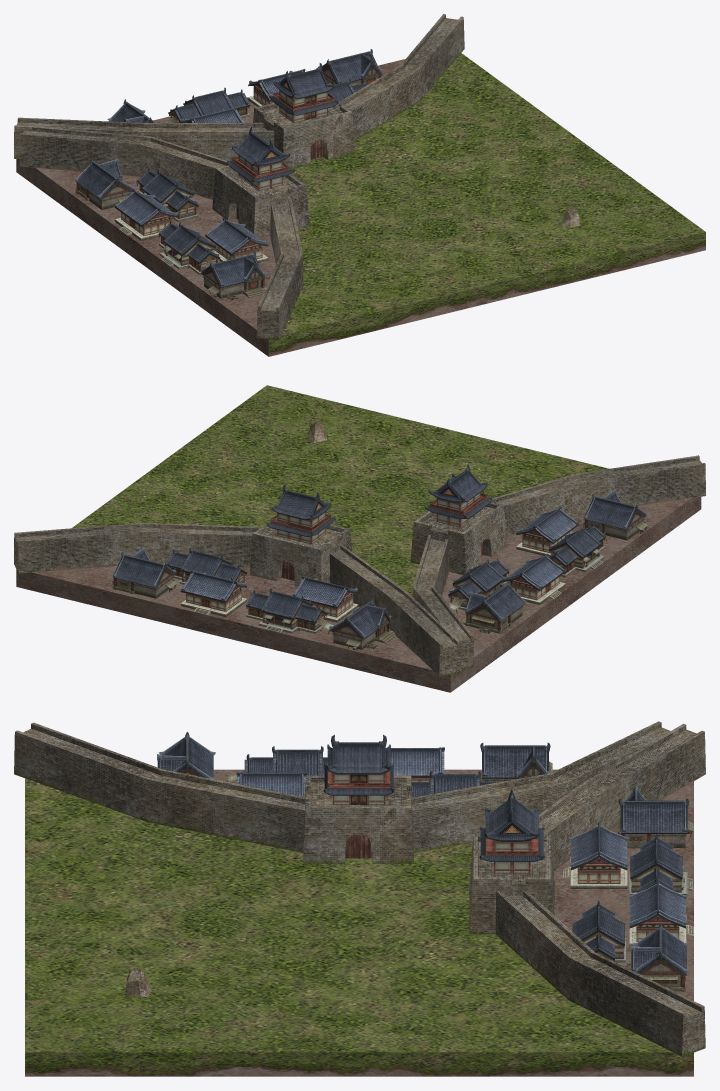
The model's file is map018.FBX.
3 views of the same model, one above another, from view 1: azimuth 30°, elevation 25°; view 2: azimuth 150°, elevation 25°; view 3: azimuth 270°, elevation 25° (orthographic). The views are drawn at different scales.
Visible parts, largest first — view 1: map018, Box088, Box087, house269, house268, house270, house266, house273; view 2: map018, Box087, Box088, house269, house268, house270, house266, house273; view 3: map018, Box088, Box087, house269, house270, house268, house273, house266, Box086.
Part boxes in pixels (x1,y1,x2,y2): map018: (16, 53, 705, 356); Box088: (19, 125, 309, 339); Box087: (14, 14, 464, 169); house269: (74, 49, 383, 300); house268: (136, 78, 368, 274); house270: (115, 69, 305, 262); house266: (269, 63, 338, 122); house273: (227, 127, 294, 190); map018: (16, 385, 701, 692); Box087: (14, 522, 461, 676); Box088: (410, 455, 705, 668); house269: (112, 488, 647, 650); house268: (162, 523, 607, 633); house270: (180, 506, 578, 622); house266: (267, 484, 335, 544); house273: (424, 464, 492, 527); map018: (25, 769, 693, 1076); Box088: (14, 721, 679, 863); Box087: (469, 723, 705, 1056); house269: (157, 732, 693, 991); house270: (236, 747, 693, 946); house268: (226, 746, 693, 962); house273: (323, 734, 394, 804); house266: (479, 789, 544, 873); Box086: (125, 968, 151, 997).
Size of the model in its own units: 104 by 22.42 by 103.
